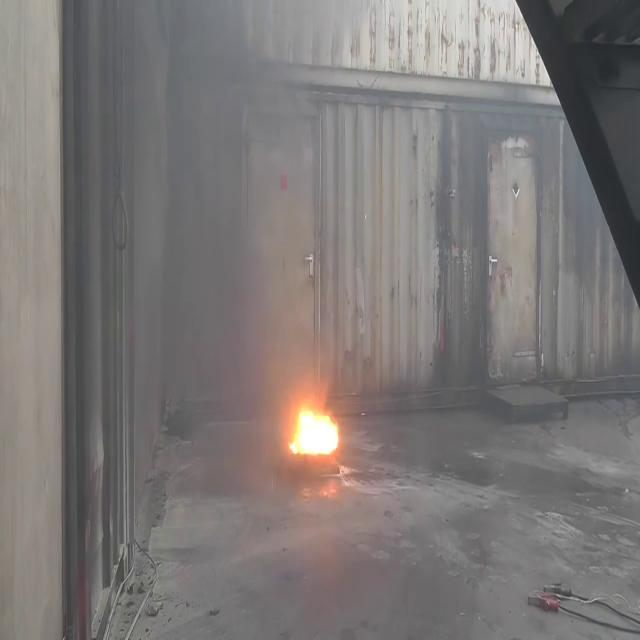Fire: (289, 386, 341, 465)
Smoke: (106, 1, 308, 483)
